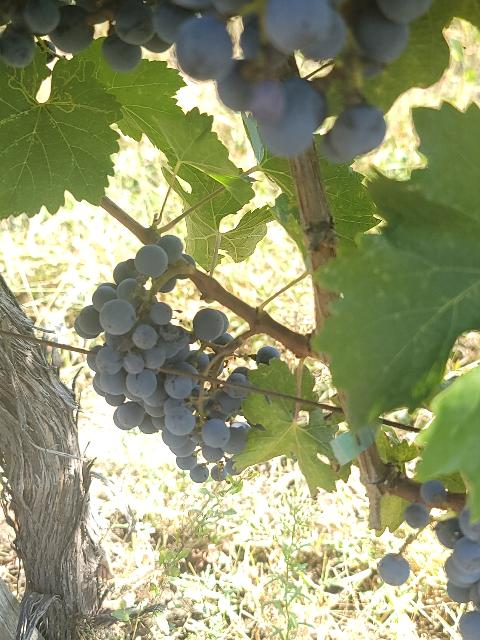grapes: (74, 235, 190, 432), (159, 328, 250, 481)
